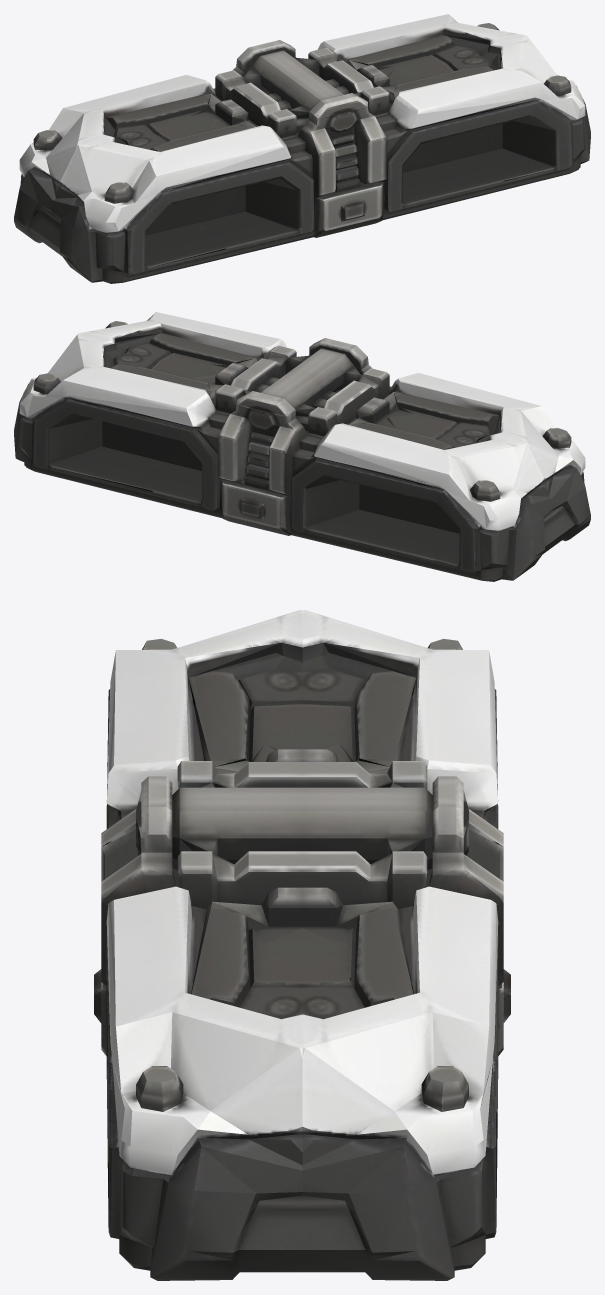
The model's file is Spliter belt_UV.fbx.
The picture shows the model from 3 angles, top to bottom: view 1: azimuth 30°, elevation 25°; view 2: azimuth 150°, elevation 25°; view 3: azimuth 270°, elevation 25°; orthographic projection. The views are drawn at different scales.
Parts seen in each view (by area): view 1: Spliter_belt; view 2: Spliter_belt; view 3: Spliter_belt.
Boxes of the visible parts, <box> form: Spliter_belt: <box>14,14,590,283</box>; Spliter_belt: <box>14,312,590,581</box>; Spliter_belt: <box>94,610,510,1280</box>.
Size of the model in its own units: 188 by 43.91 by 65.34.
1 material, 1 textured.
